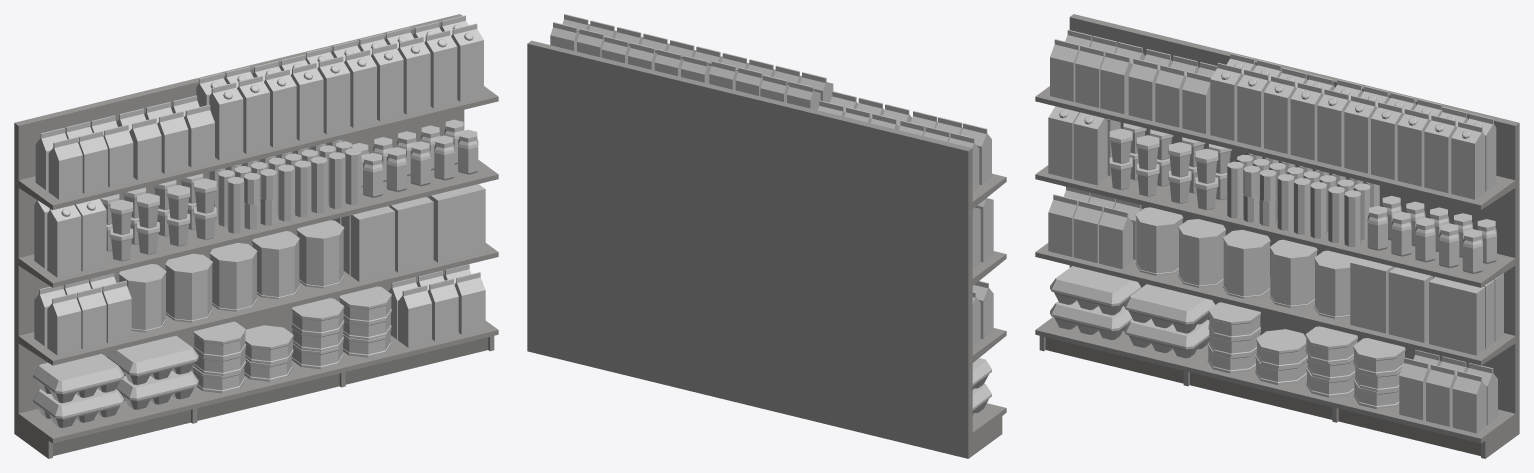
File: SM_Props_Interior_SuperMarket_Shelves_Large_Preset_04.fbx
3 renders of one model, left to right at view 1: azimuth 30°, elevation 25°; view 2: azimuth 150°, elevation 25°; view 3: azimuth 330°, elevation 25°, orthographic.
Parts seen in each view (by area): view 1: SM_Props_Interior_SuperMarket_Shelves_Large_Preset_04_Produc, SM_Props_Interior_SuperMarket_Shelves_Large_Preset_04; view 2: SM_Props_Interior_SuperMarket_Shelves_Large_Preset_04, SM_Props_Interior_SuperMarket_Shelves_Large_Preset_04_Produc; view 3: SM_Props_Interior_SuperMarket_Shelves_Large_Preset_04_Produc, SM_Props_Interior_SuperMarket_Shelves_Large_Preset_04.
Part boxes in pixels (left/top/right/bottom): SM_Props_Interior_SuperMarket_Shelves_Large_Preset_04_Produc: left=33, top=15, right=485, bottom=428; SM_Props_Interior_SuperMarket_Shelves_Large_Preset_04: left=14, top=14, right=498, bottom=458; SM_Props_Interior_SuperMarket_Shelves_Large_Preset_04: left=527, top=40, right=1006, bottom=458; SM_Props_Interior_SuperMarket_Shelves_Large_Preset_04_Produc: left=550, top=14, right=993, bottom=414; SM_Props_Interior_SuperMarket_Shelves_Large_Preset_04_Produc: left=1048, top=29, right=1503, bottom=433; SM_Props_Interior_SuperMarket_Shelves_Large_Preset_04: left=1035, top=14, right=1519, bottom=458.
Bounding box in the file's own units: 300 × 208 × 45.
